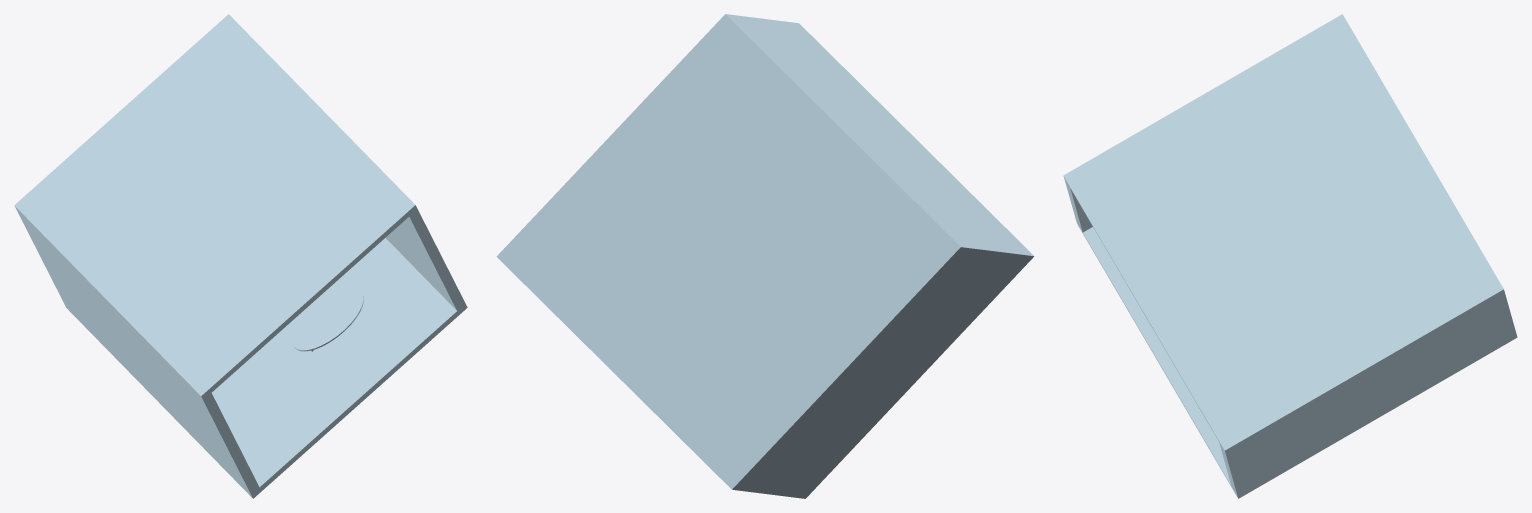
The model's file is room.gltf.
3 views of the same model, side by side, from view 1: azimuth 30°, elevation 25°; view 2: azimuth 150°, elevation 25°; view 3: azimuth 270°, elevation 25° (orthographic). The views are drawn at different scales.
Visible parts, largest first — view 1: Part 1 (×2); view 2: Part 1; view 3: Part 1.
Part boxes in pixels (x1=…): Part 1 (×2): x1=14, y1=14, x2=467, y2=498; Part 1: x1=496, y1=14, x2=1034, y2=498; Part 1: x1=1063, y1=14, x2=1517, y2=498.
Size of the model in its own units: 0.2001 by 0.2158 by 0.1787.
